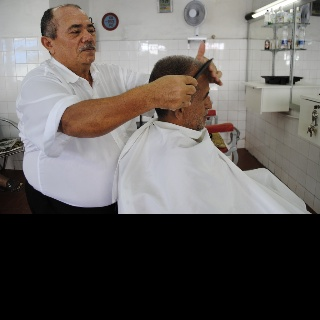without_mask: (53, 7, 94, 62)
